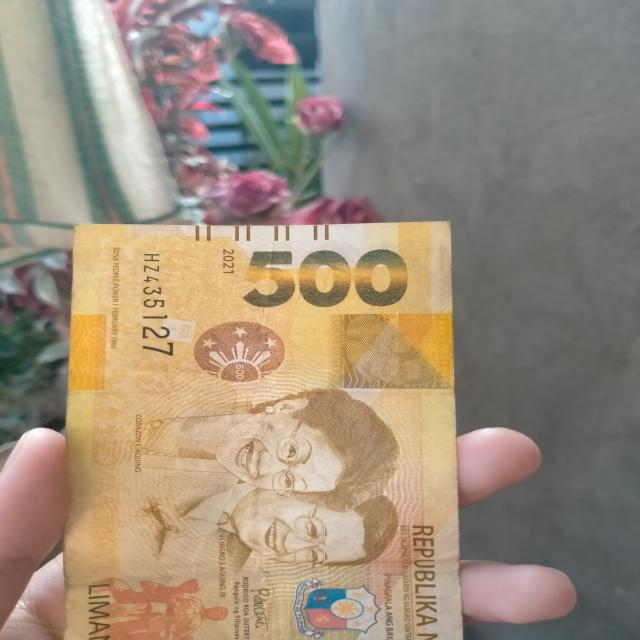concealed_value: (326, 313, 452, 389)
optically_variable_device: (178, 314, 298, 392)
value: (239, 247, 407, 313)
